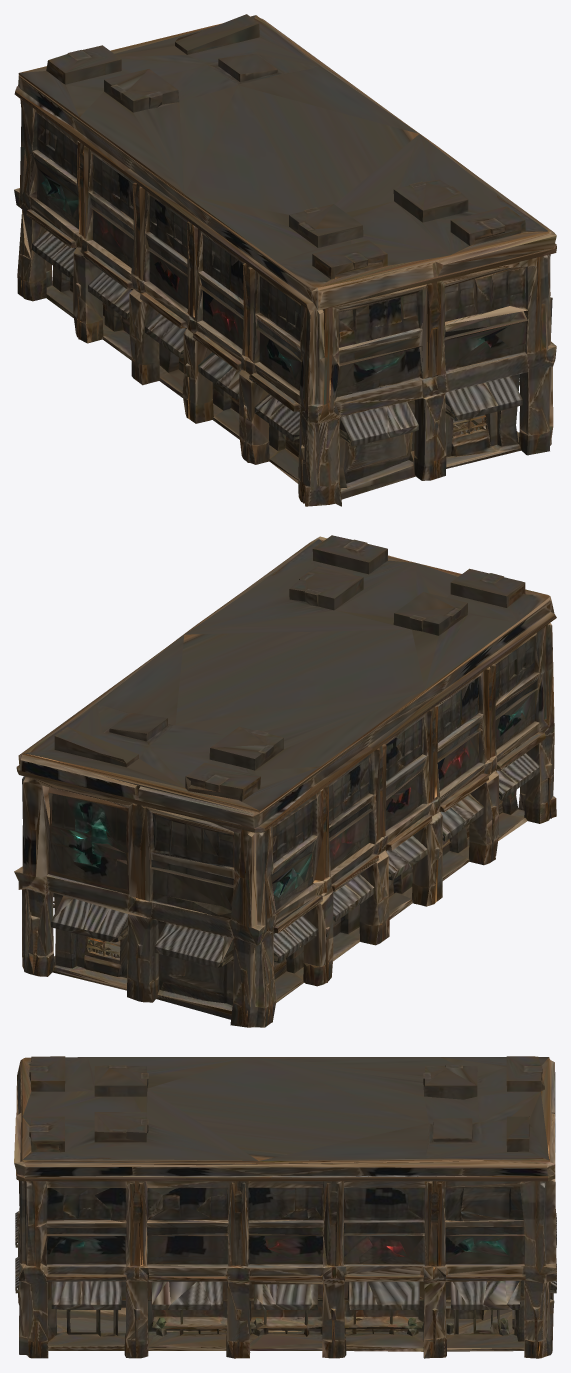
3 renders of one model, top to bottom at view 1: azimuth 30°, elevation 25°; view 2: azimuth 150°, elevation 25°; view 3: azimuth 270°, elevation 25°, orthographic. The views are drawn at different scales.
Visible parts, largest first — view 1: s01; view 2: s01; view 3: s01.
Boxes of the visible parts, bbox=[...] form: s01: bbox=[14, 14, 556, 506]; s01: bbox=[14, 535, 556, 1027]; s01: bbox=[14, 1056, 556, 1358].
Bounding box in the file's own units: 13.35 × 12 × 27.69.
1 material, 1 textured.
